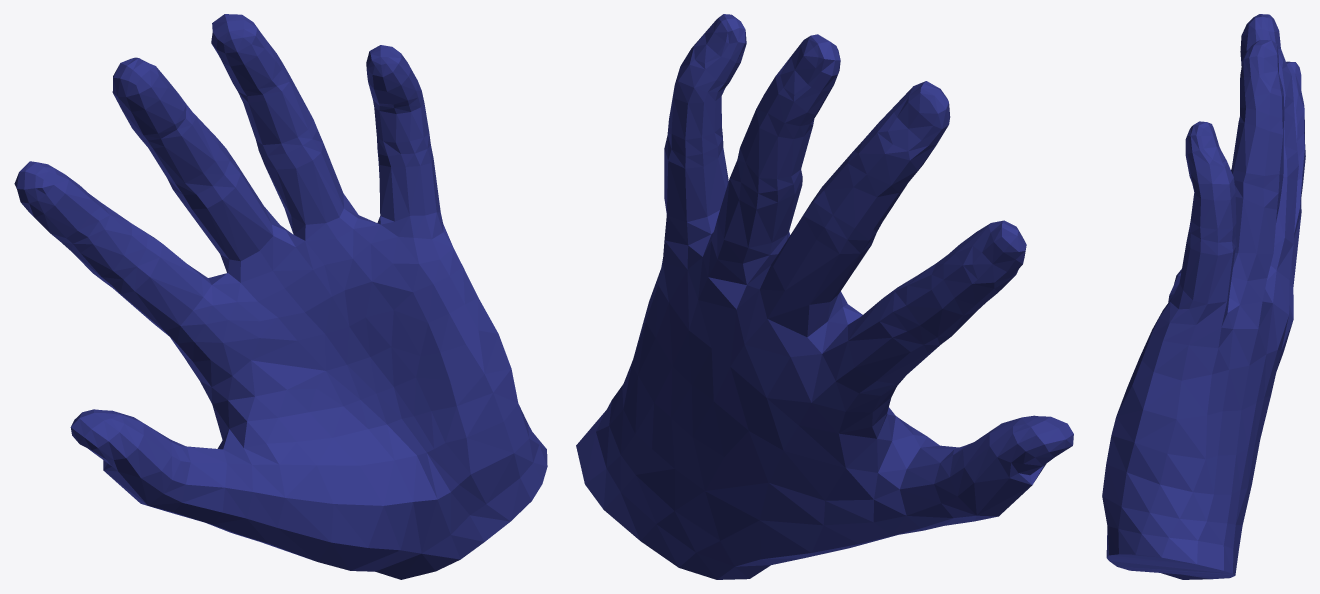
The picture shows the model from 3 angles, left to right: view 1: azimuth 30°, elevation 25°; view 2: azimuth 150°, elevation 25°; view 3: azimuth 270°, elevation 25°; orthographic projection. The views are drawn at different scales.
Size of the model in its own units: 0.1572 by 0.1799 by 0.0676.
